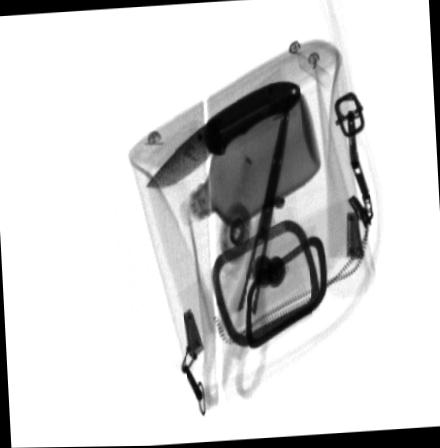Knife: (145, 79, 303, 187)
Scissors: (204, 108, 291, 398)
